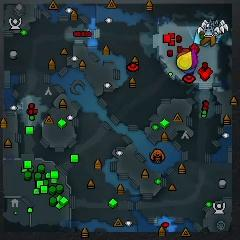p1: (182, 68, 197, 75)
p3: (192, 50, 198, 70)
p4: (177, 51, 192, 70)
p5: (177, 49, 189, 57)
x3: (193, 31, 202, 45)
x5: (201, 36, 216, 45)
